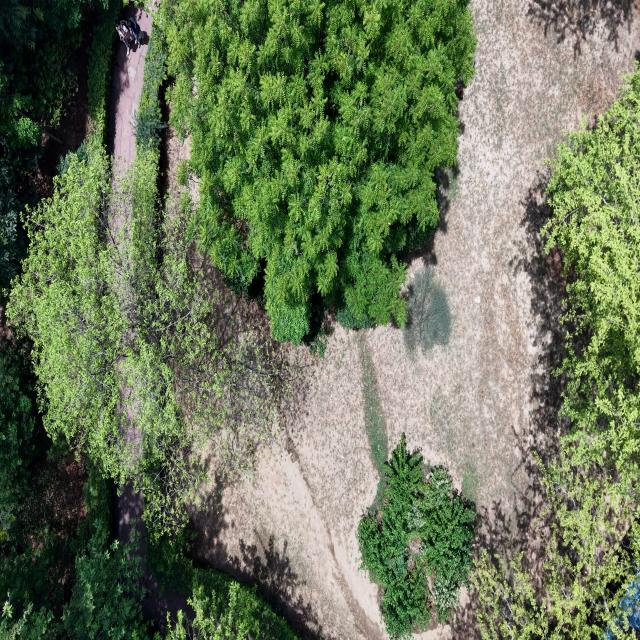DRY_AREA: (190, 0, 639, 639), (367, 0, 639, 527), (190, 332, 385, 639), (190, 451, 383, 639), (189, 454, 384, 639), (193, 453, 383, 639), (214, 452, 383, 639), (255, 456, 381, 639), (107, 2, 153, 313), (107, 1, 157, 277), (107, 0, 157, 257), (107, 0, 158, 236), (107, 2, 151, 266), (114, 484, 193, 631), (114, 484, 191, 631), (108, 2, 151, 249), (114, 485, 188, 628), (109, 3, 151, 245), (108, 0, 158, 189), (109, 2, 155, 192), (108, 3, 151, 187), (110, 46, 143, 179), (159, 125, 189, 218)
PATHWAYS: (114, 485, 191, 630), (109, 3, 151, 191)
VEGETATION_TREE: (0, 0, 474, 639), (0, 2, 295, 639), (0, 2, 275, 639), (7, 16, 285, 530), (158, 0, 474, 343), (7, 147, 284, 530), (476, 64, 639, 639), (0, 343, 296, 639), (125, 29, 286, 529), (0, 462, 296, 639), (0, 343, 152, 639), (544, 69, 639, 446), (0, 468, 157, 639), (0, 0, 84, 286), (357, 436, 474, 639), (0, 341, 85, 551), (147, 529, 297, 639), (420, 467, 474, 621), (165, 580, 296, 639), (0, 344, 35, 541), (132, 25, 165, 155), (403, 266, 451, 354), (0, 148, 25, 287)
